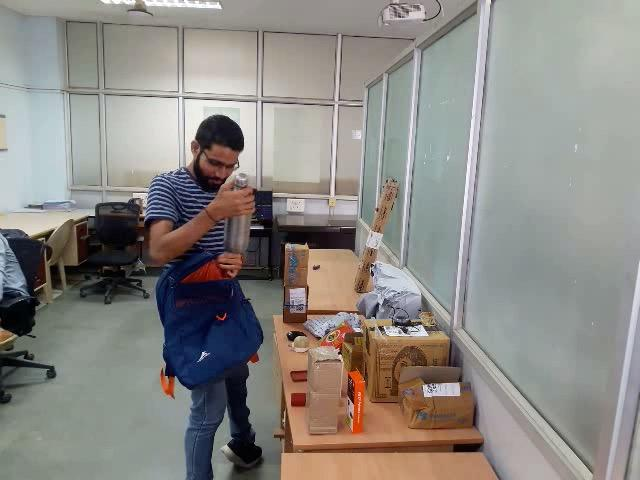shoplifting: (138, 168, 278, 399)
